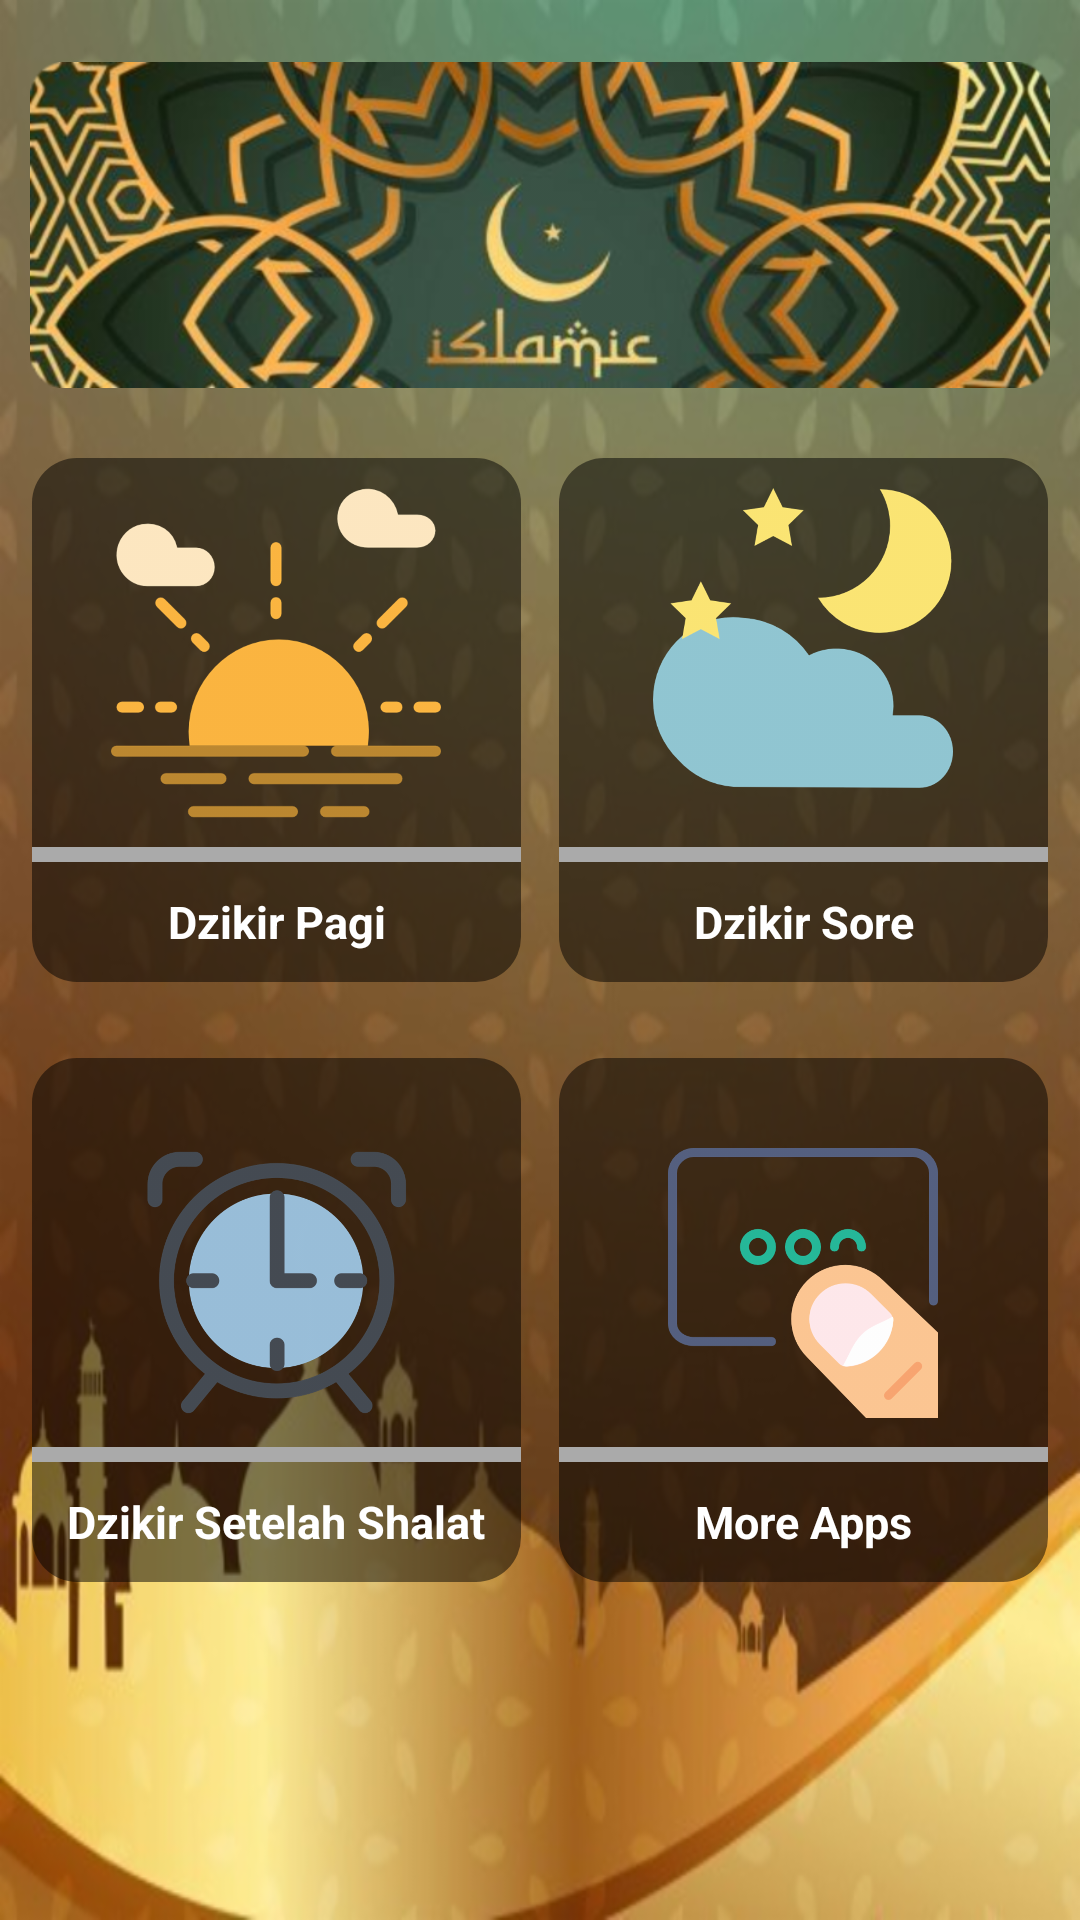

Locate icon controls on the screen. Image size 1080 × 1920, boxes as (left=x1, top=y1, right=x2, bottom=y2).
clock: (left=147, top=1152, right=411, bottom=1418)
evening: (left=653, top=488, right=953, bottom=788)
